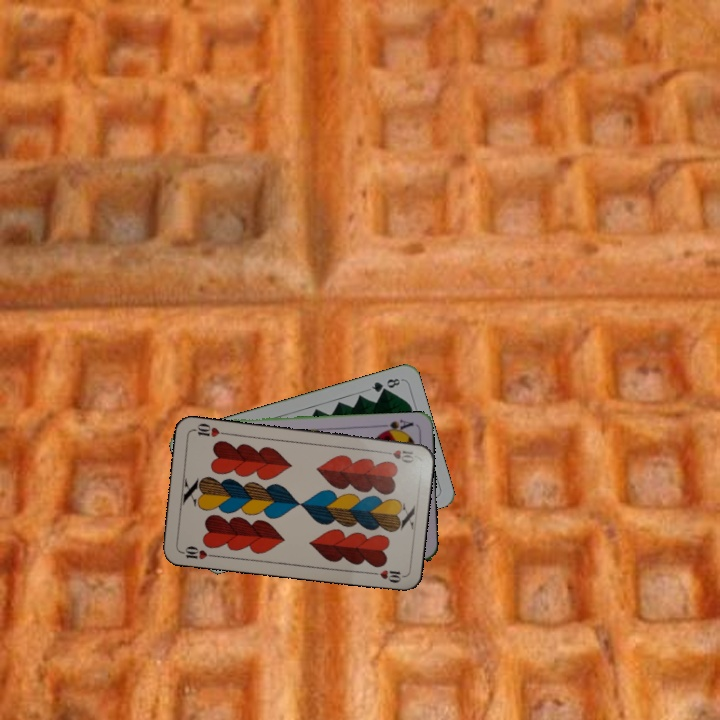G8: (367, 374, 403, 395)
H10: (177, 542, 217, 562), (378, 446, 417, 465)
SA: (376, 416, 416, 436)
